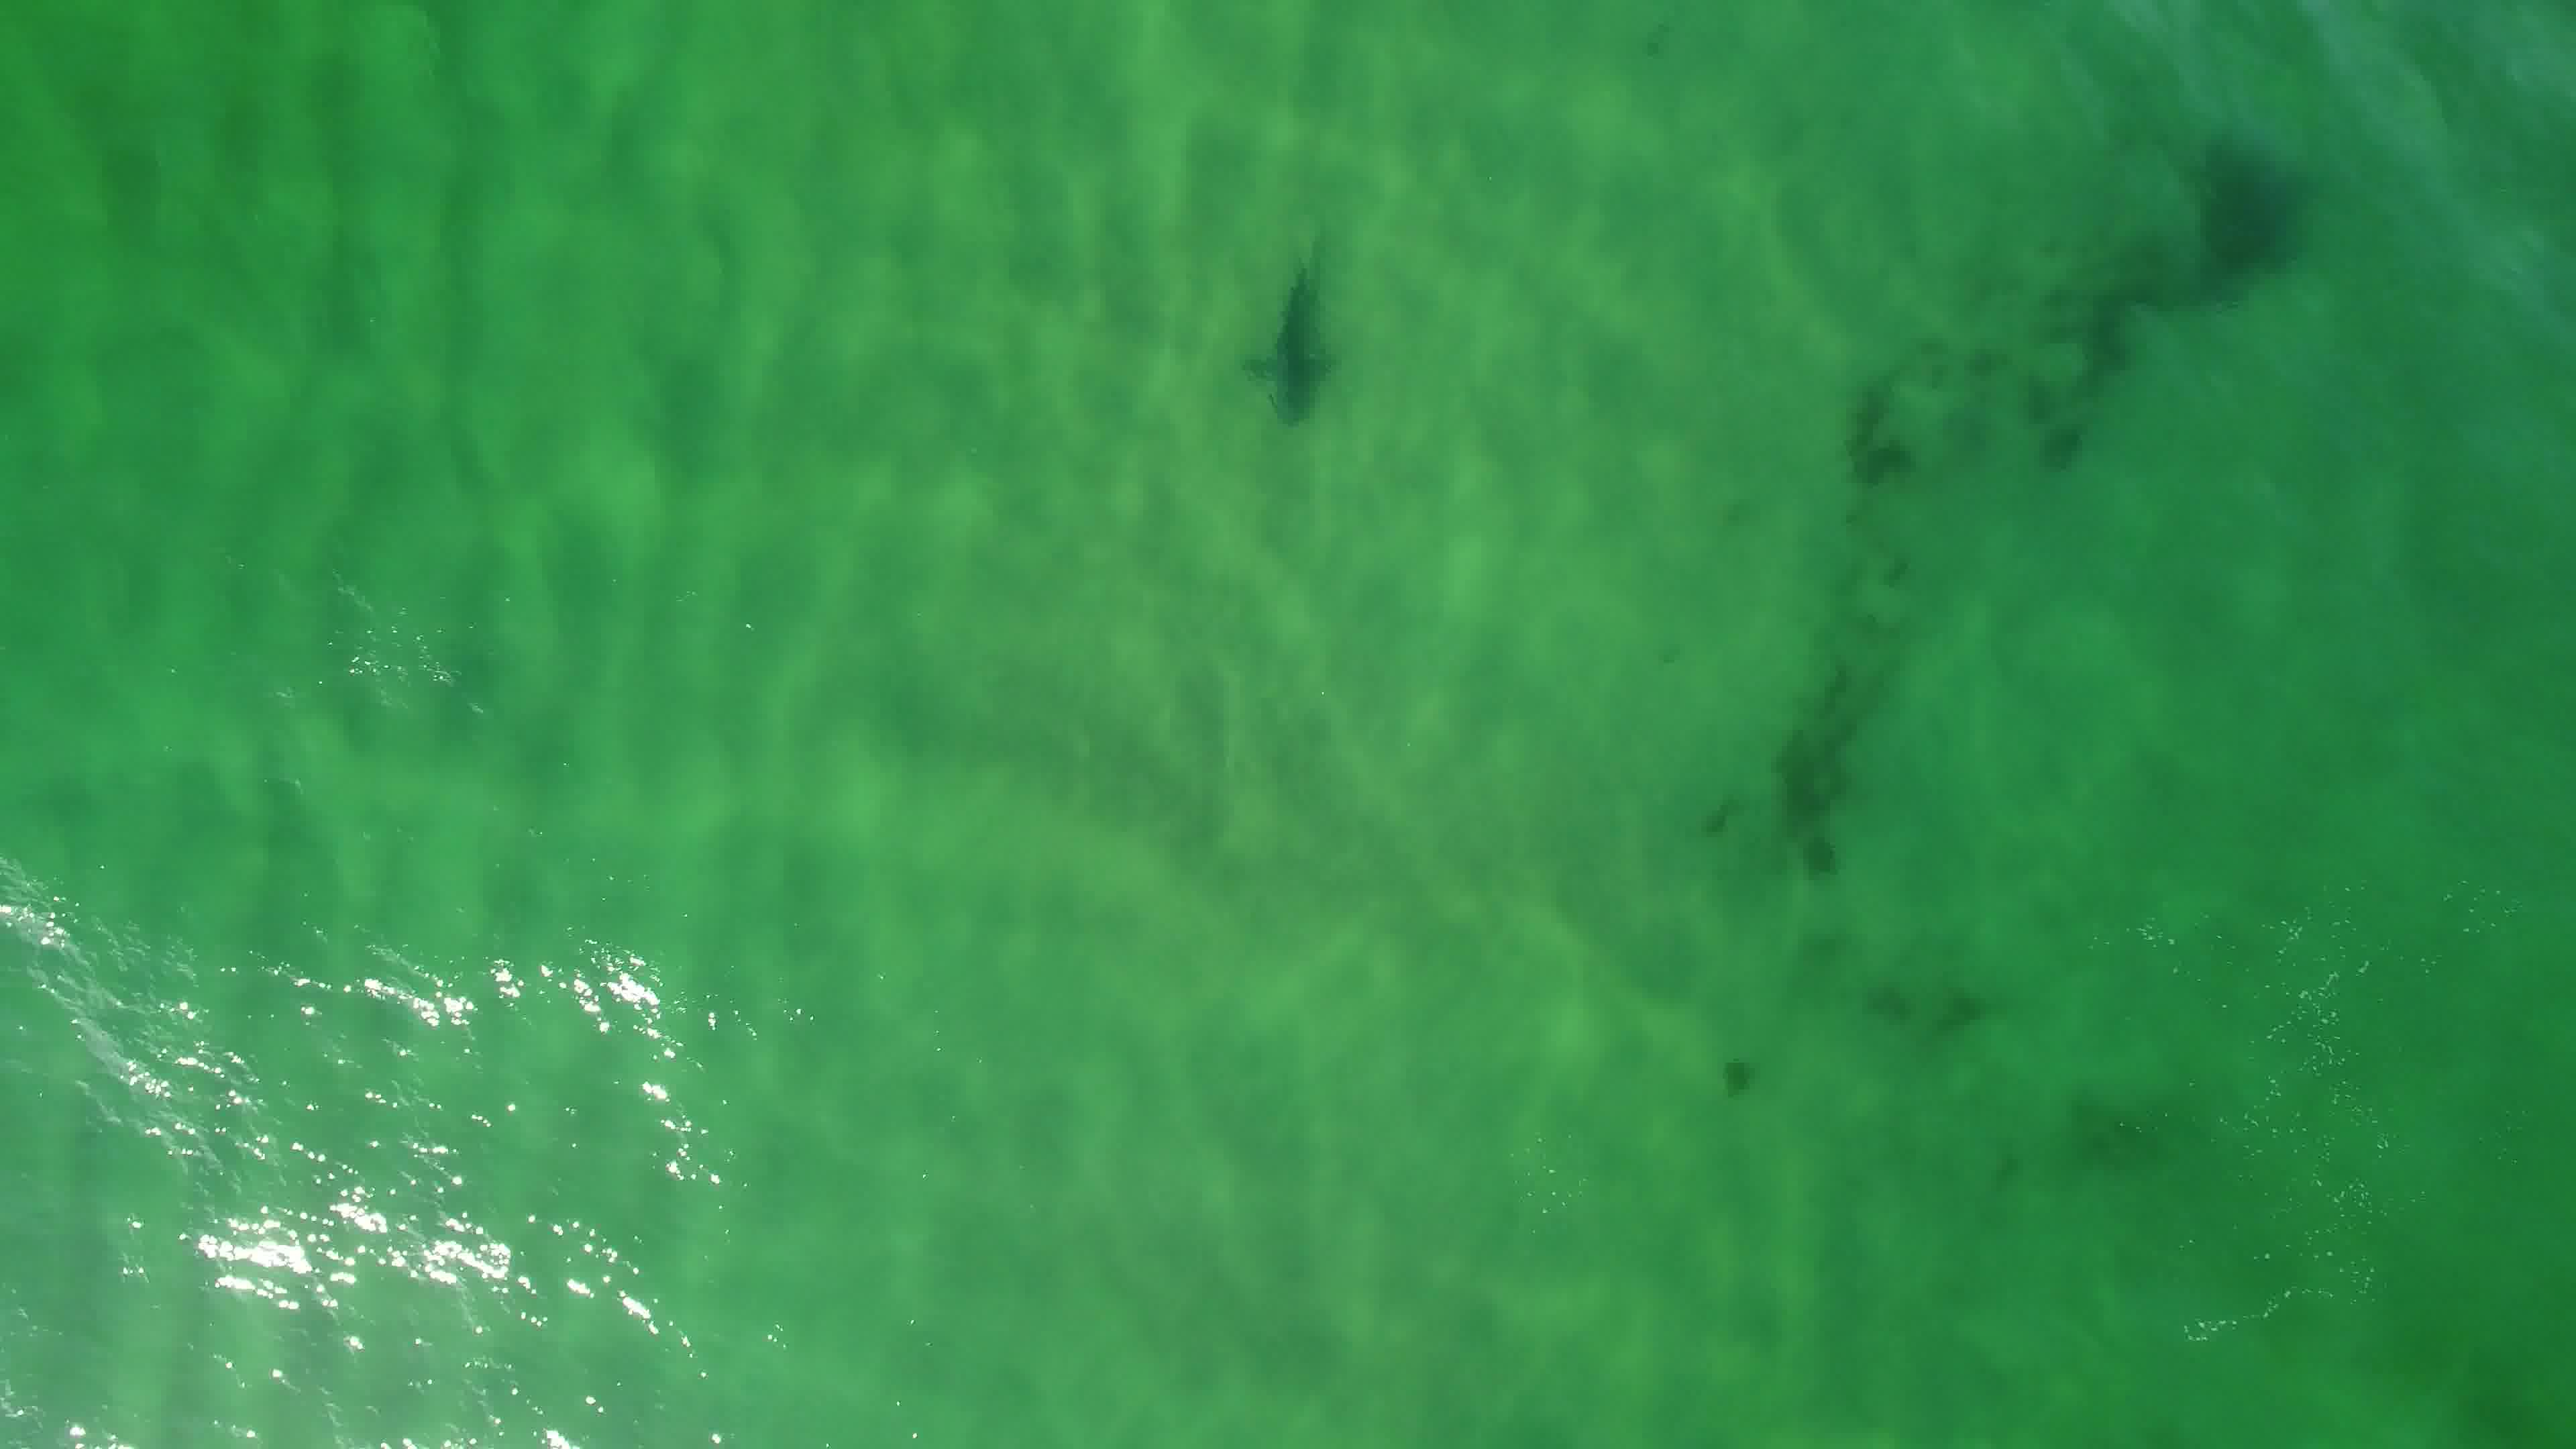shark: (1237, 260, 1346, 432)
